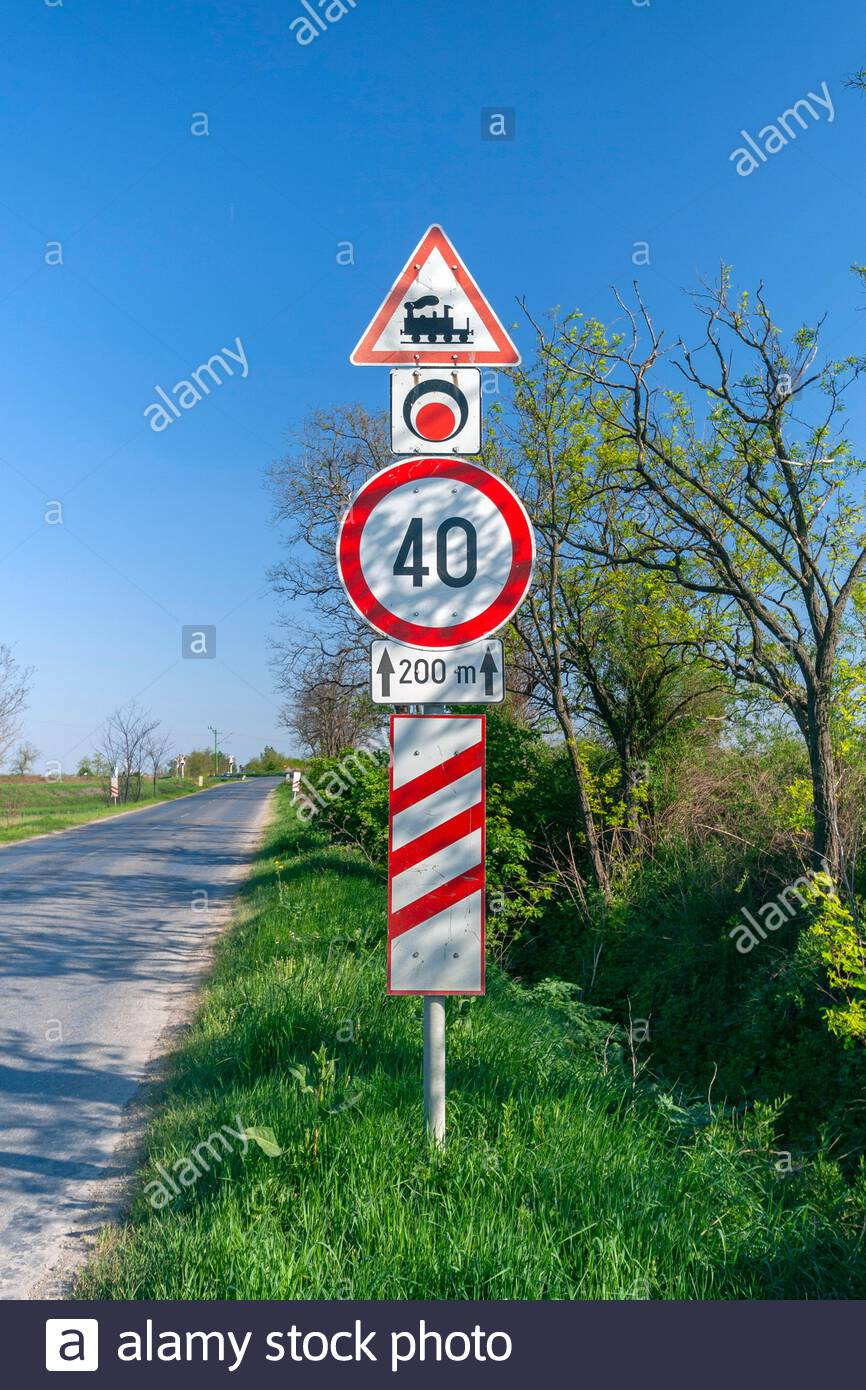speed_limit_40: (334, 454, 537, 652)
